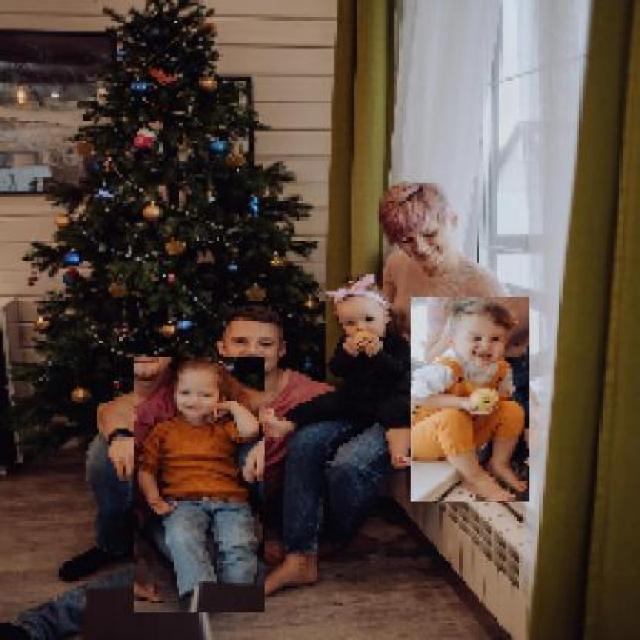child: (132, 357, 265, 614), (408, 297, 528, 503), (322, 273, 415, 470)
